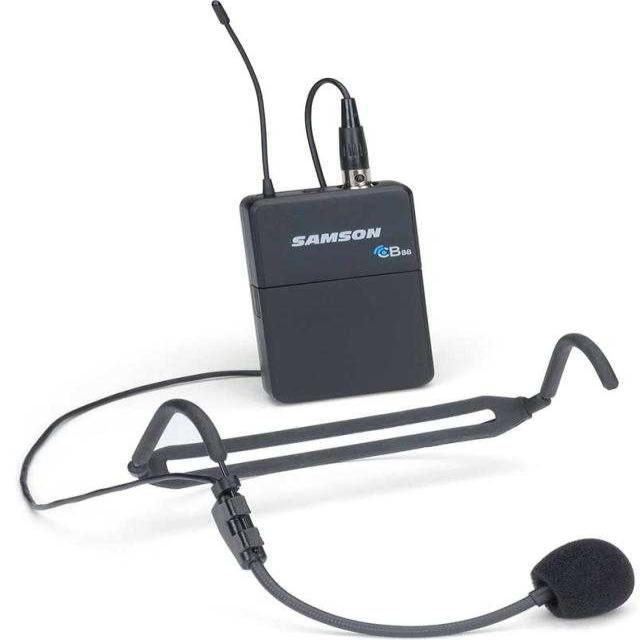microphone: (530, 538, 634, 619)
